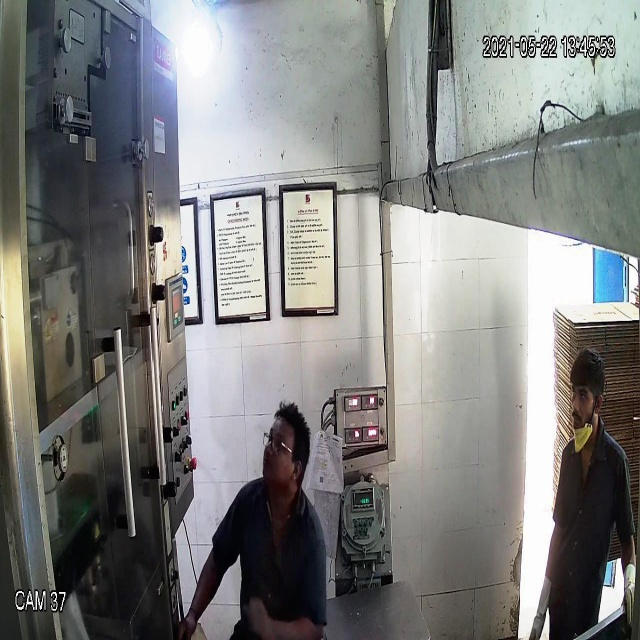Gafas: (260, 428, 301, 463)
Sin_gafas: (566, 383, 603, 409)
